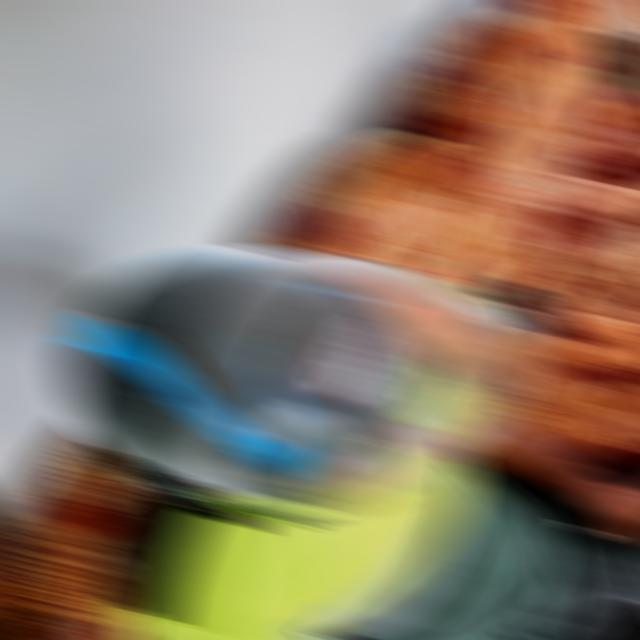With Helmet: (53, 245, 542, 536)
